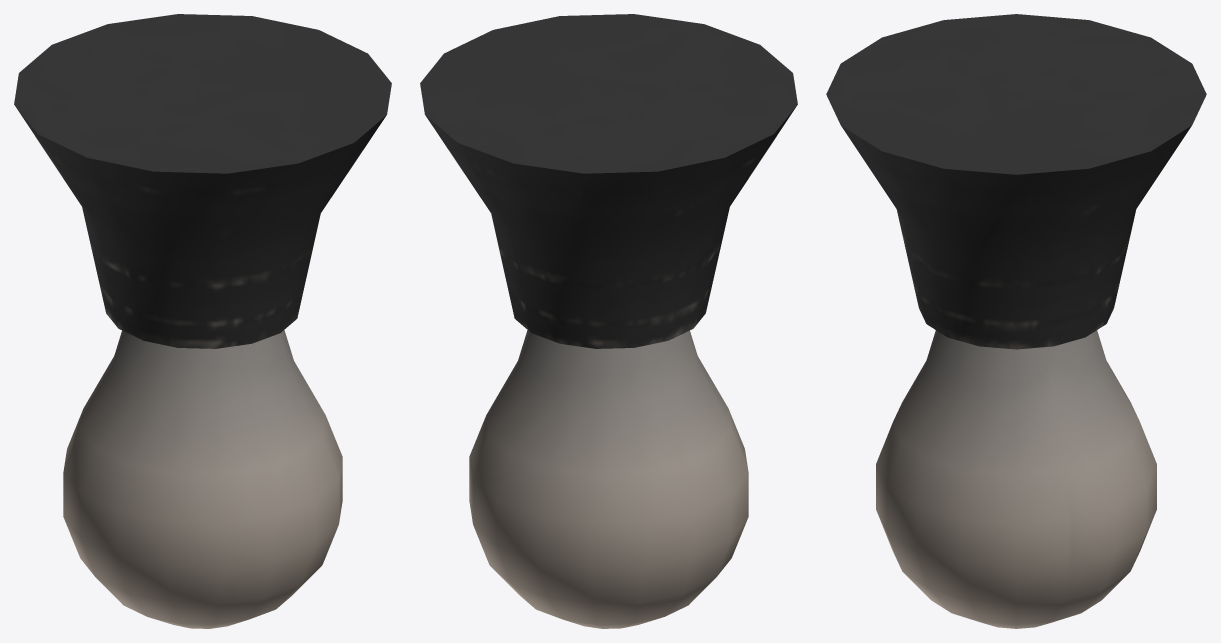
File: ceilinglightD.fbx
3 renders of one model, left to right at view 1: azimuth 30°, elevation 25°; view 2: azimuth 150°, elevation 25°; view 3: azimuth 270°, elevation 25°, orthographic.
Parts seen in each view (by area): view 1: ceilinglightD; view 2: ceilinglightD; view 3: ceilinglightD.
Part boxes in pixels (bbox=[...]): ceilinglightD: bbox=[14, 14, 391, 628]; ceilinglightD: bbox=[420, 14, 797, 628]; ceilinglightD: bbox=[826, 14, 1206, 628].
Size of the model in its own units: 8 by 12.1 by 8.
Materials: 1 (1 with a texture image).
